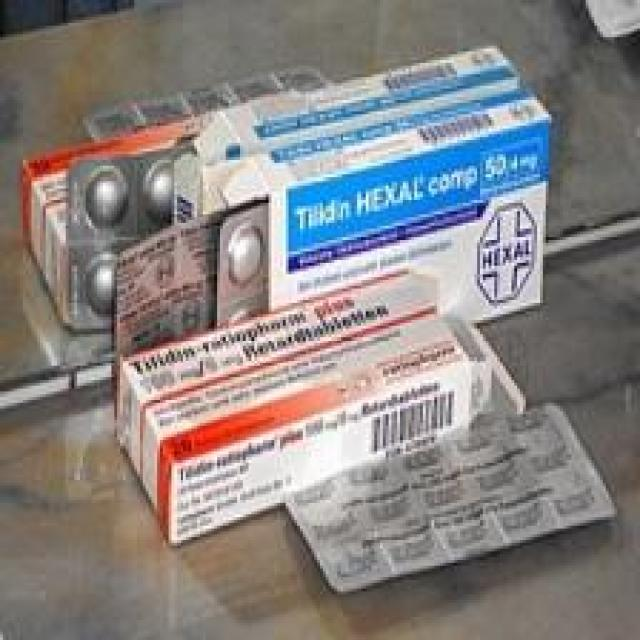Medicine: (31, 40, 615, 612)
